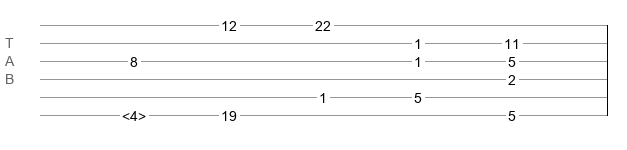1: (319, 90, 327, 100), (414, 36, 422, 46), (414, 54, 422, 64)
11: (504, 36, 520, 46)
12: (221, 18, 237, 28)
19: (221, 108, 237, 118)
2: (508, 72, 516, 82)
22: (315, 18, 331, 28)
5: (414, 90, 422, 100), (508, 54, 516, 64), (508, 108, 516, 118)
8: (130, 54, 138, 64)
harmonic: (122, 108, 146, 118)
